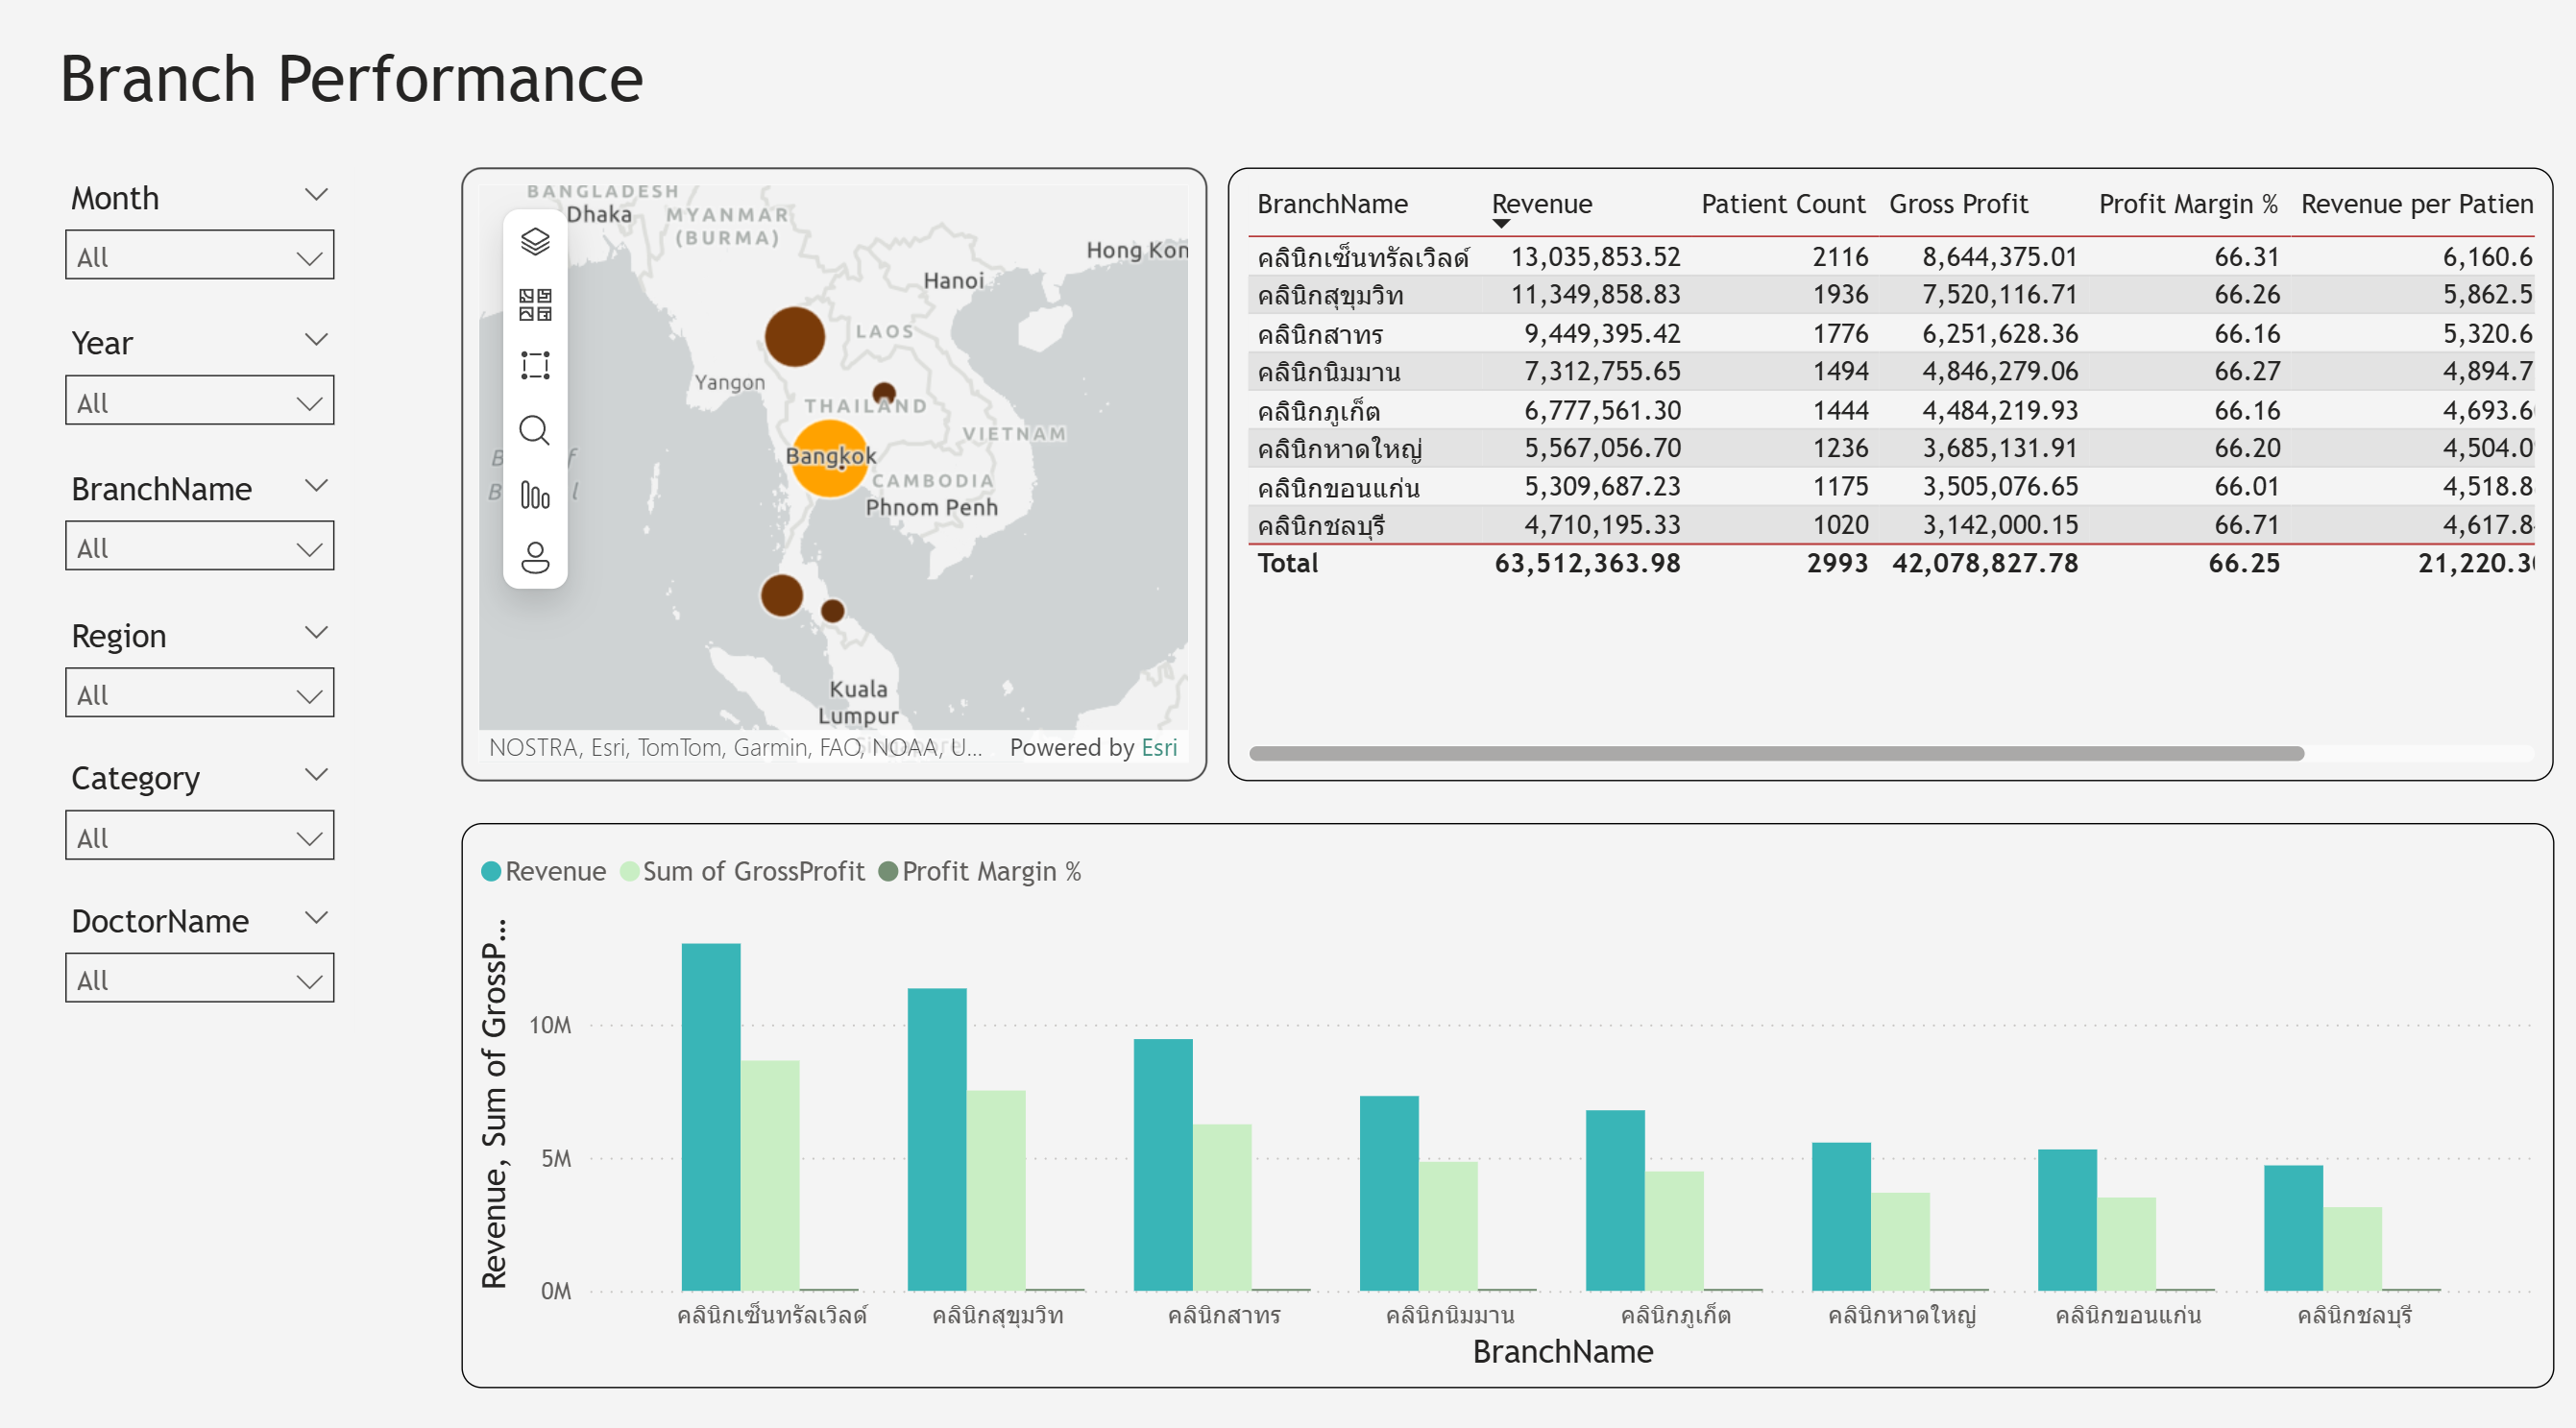

The page's visual inventory and layout, read from the dashboard file:
{"tool":"powerbi","page":{"name":"Branch Performance","canvas":[1280,720],"ordinal":1},"visuals":[{"type":"slicer","fields":{"Values":["DimDate.Month"]},"box":[24.3,92.1,153.5,72],"z":0,"group":"g1"},{"type":"tableEx","fields":{"Values":["DimBranch.BranchName","FactBillingDetail.Revenue","FactBillingDetail.Patient Count","FactBillingDetail.Gross Profit","FactBillingDetail.Profit Margin %","FactBillingDetail.Revenue per Patient","FactBillingDetail.Performance Status"]},"box":[610.2,92.1,656.5,304],"z":0},{"type":"slicer","fields":{"Values":["DimDate.Year"]},"box":[24.3,164.1,153.5,72],"z":1000,"group":"g1"},{"type":"clusteredColumnChart","fields":{"Category":["DimBranch.BranchName"],"Y":["FactBillingDetail.Revenue","FactBillingDetail.GrossProfit","FactBillingDetail.Profit Margin %"]},"box":[230.3,417.1,1036.7,279.8],"z":1000},{"type":"esriVisual","fields":{"Location":["DimBranch.Province"],"Size":["FactBillingDetail.Patient Count"],"Color":["FactBillingDetail.Revenue"]},"box":[230.5,92.1,369.7,304],"z":2000},{"type":"slicer","fields":{"Values":["DimBranch.BranchName"]},"box":[24.3,236.2,153.5,72.8],"z":2000,"group":"g1"},{"type":"textbox","box":[26.4,23.8,319.4,60.7],"z":3000},{"type":"slicer","fields":{"Values":["DimBranch.Region"]},"box":[24.3,309,153.5,70.6],"z":3000,"group":"g1"},{"type":"group","id":"g1","title":"Group 1","box":[24.3,92.1,153.4,428.9],"z":3001},{"type":"slicer","fields":{"Values":["DimService.Category"]},"box":[24.3,379.6,153.5,70.6],"z":4000,"group":"g1"},{"type":"slicer","fields":{"Values":["DimDoctor.DoctorName"]},"box":[24.3,450.2,153.5,70.6],"z":5000,"group":"g1"}]}

Visuals, with their boxes in screenshot pixels (x1, y1, x2, y2), scaled from the page's 1280x720 canvas onto the 2576x1428 screenshot:
slicer - DimDate.Month: 49:182:358:326
tableEx - DimBranch.BranchName x FactBillingDetail.Revenue: 1228:182:2549:786
slicer - DimDate.Year: 49:326:358:469
clusteredColumnChart - DimBranch.BranchName x FactBillingDetail.Revenue: 464:827:2550:1382
esriVisual - DimBranch.Province x FactBillingDetail.Patient Count: 464:182:1208:786
slicer - DimBranch.BranchName: 49:469:358:613
textbox: 53:47:696:168
slicer - DimBranch.Region: 49:613:358:753
"Group 1" group: 49:182:357:1033
slicer - DimService.Category: 49:753:358:893
slicer - DimDoctor.DoctorName: 49:893:358:1033
